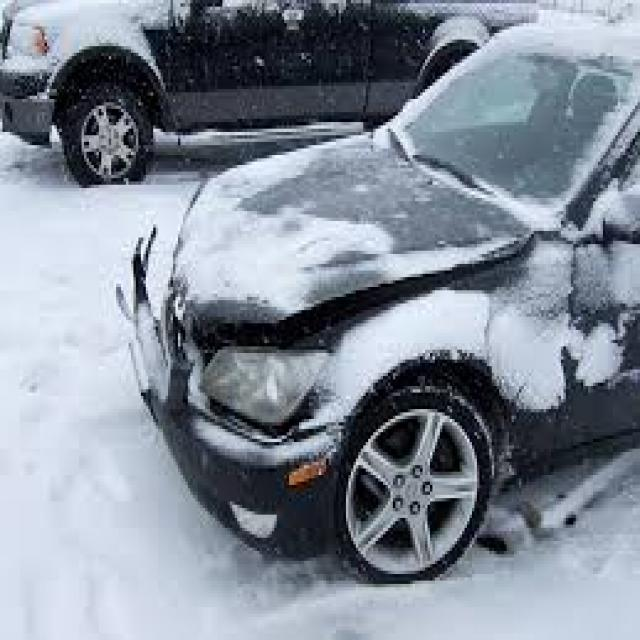moderate: (145, 133, 397, 525)
